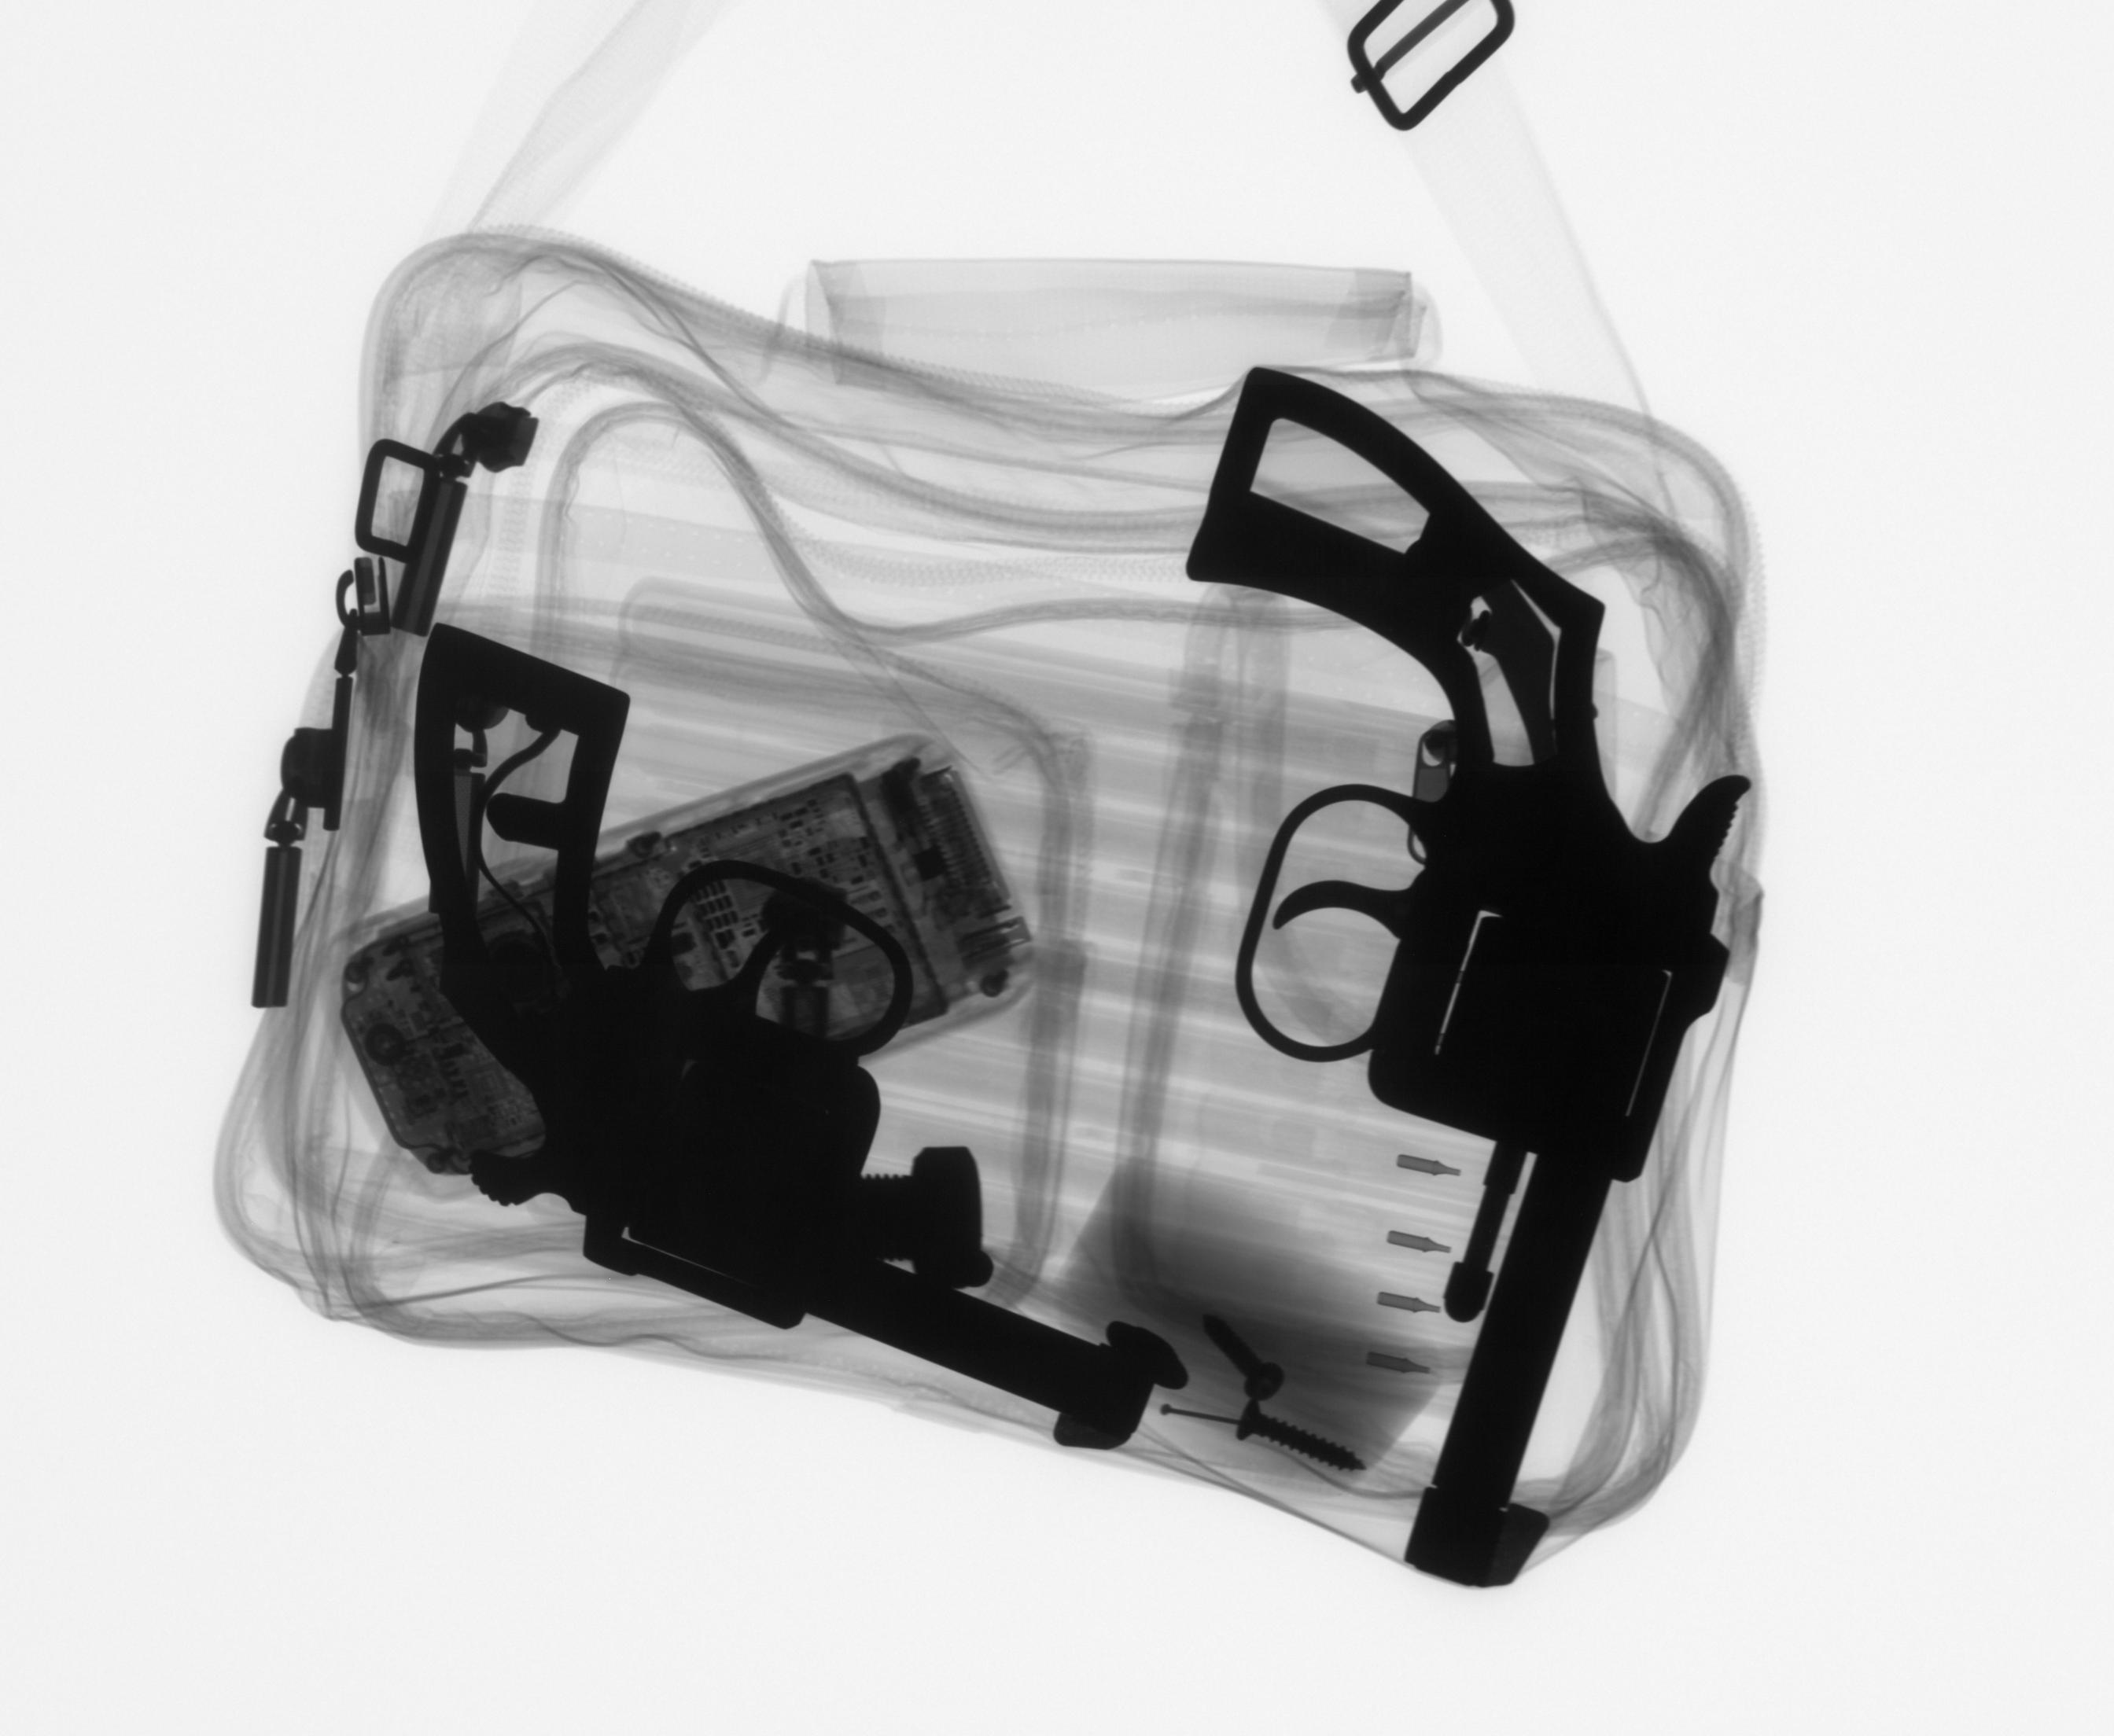Handgun: (1174, 355, 1761, 1595), (405, 610, 1160, 1459)
